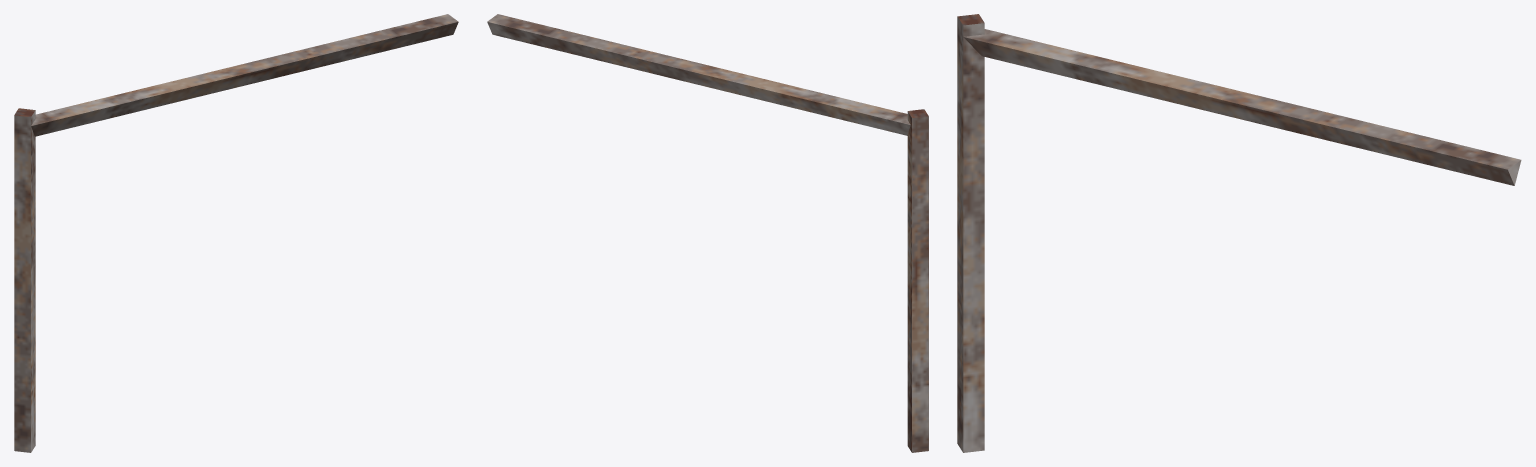
Rendered from Handrail.glb.
The picture shows the model from 3 angles, left to right: view 1: azimuth 30°, elevation 25°; view 2: azimuth 150°, elevation 25°; view 3: azimuth 330°, elevation 25°; orthographic projection. The views are drawn at different scales.
Parts seen in each view (by area): view 1: Handrail, Handrail Post; view 2: Handrail, Handrail Post; view 3: Handrail, Handrail Post.
Part boxes in pixels (box(x1,y1,x2,y2)): Handrail: box(31, 14, 458, 136); Handrail Post: box(14, 108, 35, 452); Handrail: box(487, 14, 910, 135); Handrail Post: box(907, 109, 928, 452); Handrail: box(963, 29, 1521, 185); Handrail Post: box(957, 14, 984, 452).
Bounding box in the file's own units: 1.03 × 0.75 × 0.05.
1 material, 1 textured.
